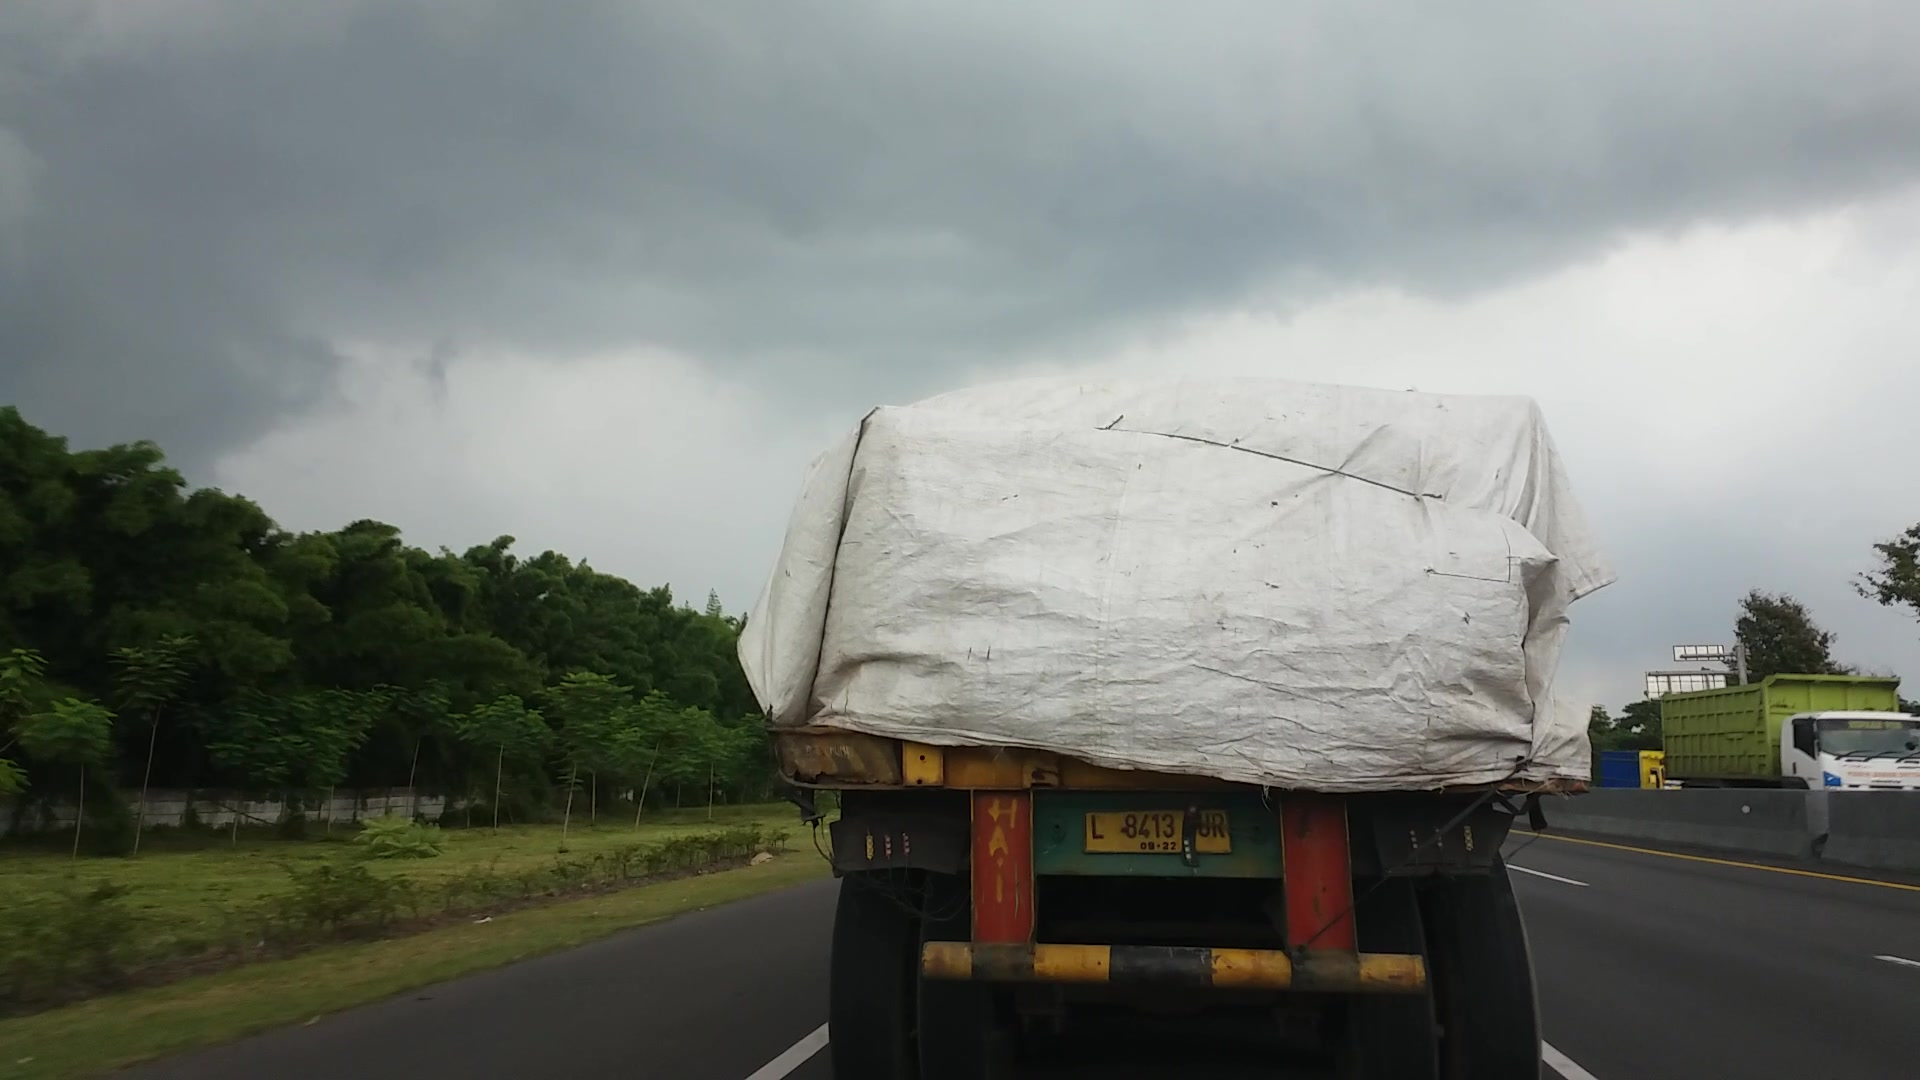plate_positive: (1084, 808, 1232, 855)
